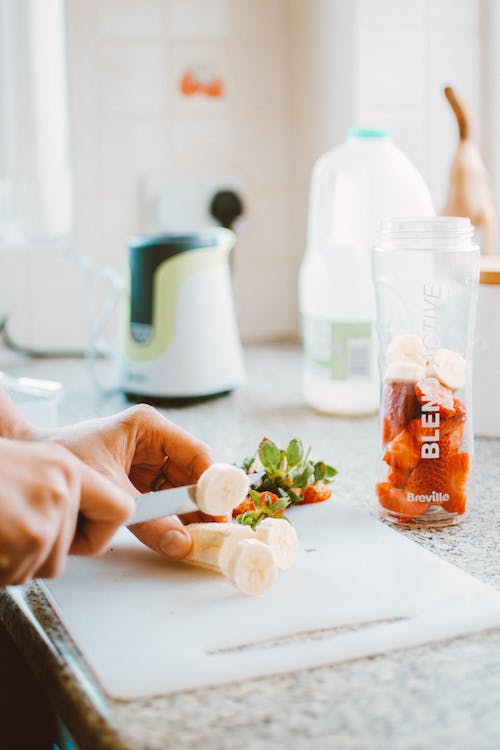knife: (119, 471, 268, 526)
